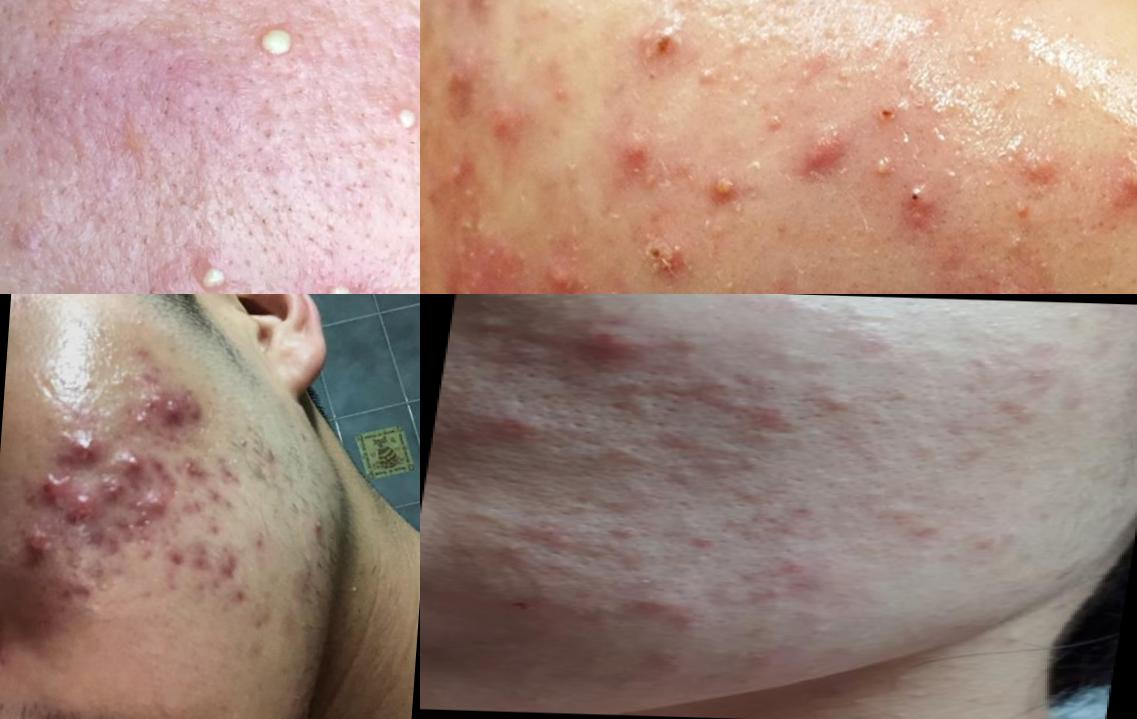acne_scars: (217, 553, 254, 589)
blackhead: (647, 376, 698, 398), (744, 382, 796, 403), (595, 520, 642, 542), (701, 379, 740, 403)
folliculitis: (170, 242, 248, 295)
papular: (466, 67, 542, 189), (595, 118, 673, 202), (540, 323, 668, 358), (727, 255, 837, 295), (1001, 151, 1068, 207), (912, 438, 1017, 468), (796, 386, 871, 418), (617, 587, 685, 622), (59, 485, 101, 534), (485, 410, 547, 439), (13, 521, 52, 563), (136, 492, 187, 522), (989, 400, 1047, 423), (767, 555, 820, 579), (159, 395, 187, 439), (111, 443, 148, 474), (775, 500, 829, 521), (58, 429, 97, 457), (774, 574, 821, 596), (28, 470, 59, 503), (487, 540, 539, 559), (899, 522, 946, 542), (682, 533, 725, 550), (799, 621, 839, 638), (98, 474, 117, 505)
purulent: (689, 150, 759, 230), (239, 6, 310, 83), (884, 177, 949, 246), (1093, 143, 1137, 227), (854, 140, 910, 202), (374, 88, 421, 153), (966, 266, 1039, 295), (295, 271, 374, 295)
sebo-crystan-conglo: (421, 257, 642, 295), (776, 104, 853, 212), (630, 218, 705, 295)
whitehead: (648, 434, 763, 496), (798, 306, 913, 349), (1021, 69, 1079, 124), (677, 52, 740, 98), (784, 48, 839, 97), (755, 91, 804, 142), (1033, 76, 1080, 122), (982, 70, 1031, 110), (924, 546, 965, 566), (1052, 307, 1091, 327), (873, 284, 921, 295)
